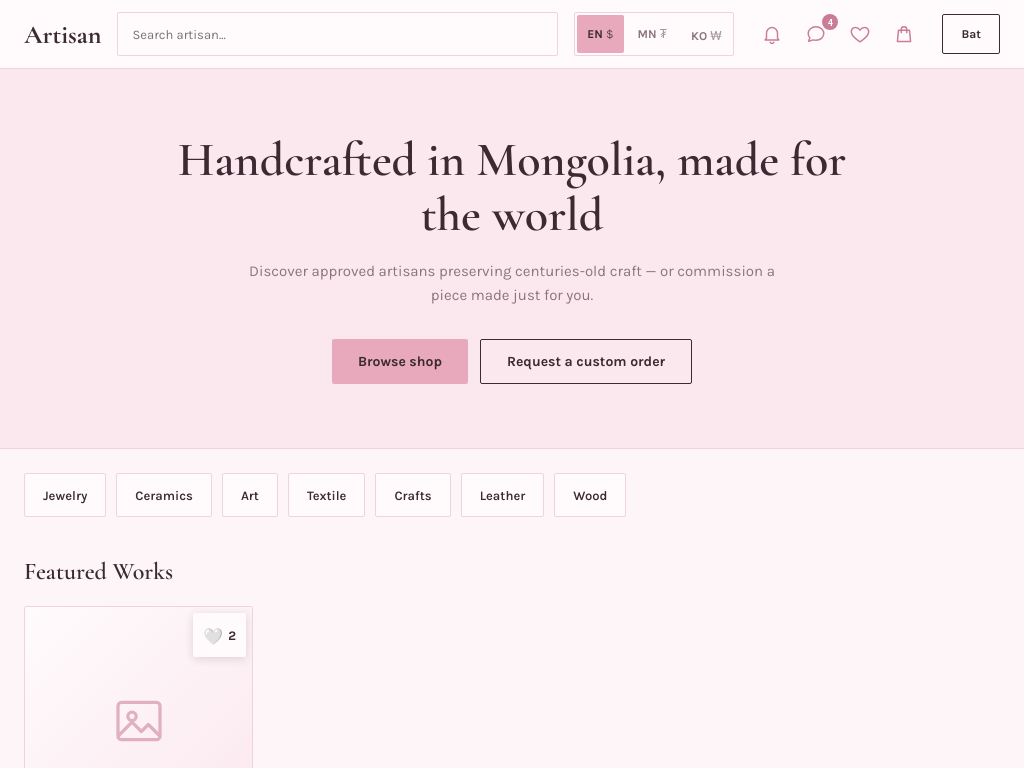
Test: unread messages show on the chat icon only, not on the bell
The image size is (1024, 768).
Check: the text with test id "count-badge" reads "4", box [828,16,833,28]
Click the button named "Notifications".
click(772, 34)  # box [750,12,794,56]
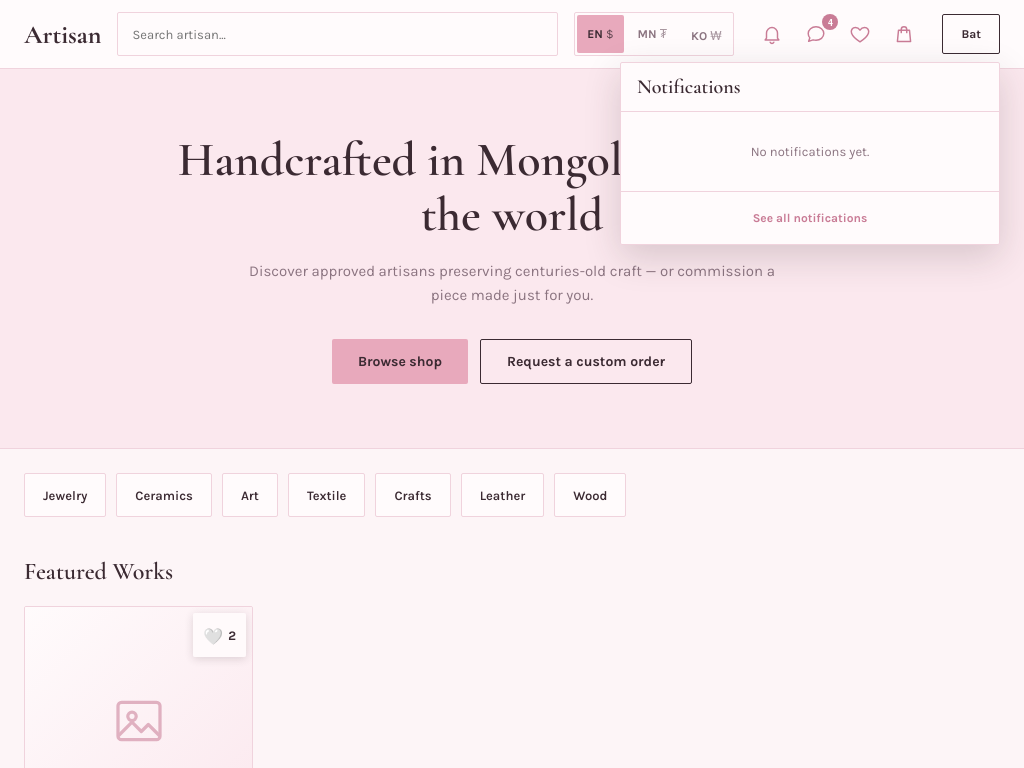
Check: the text "No notifications yet." is shown, box [751,144,869,159]
